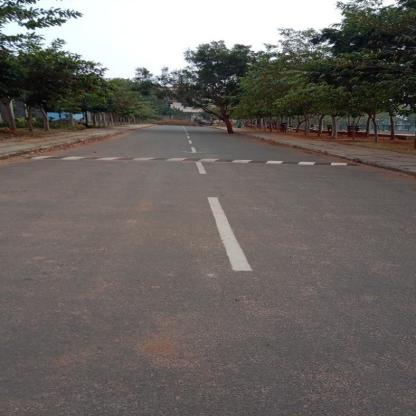speed-bumps: (16, 148, 374, 172)
